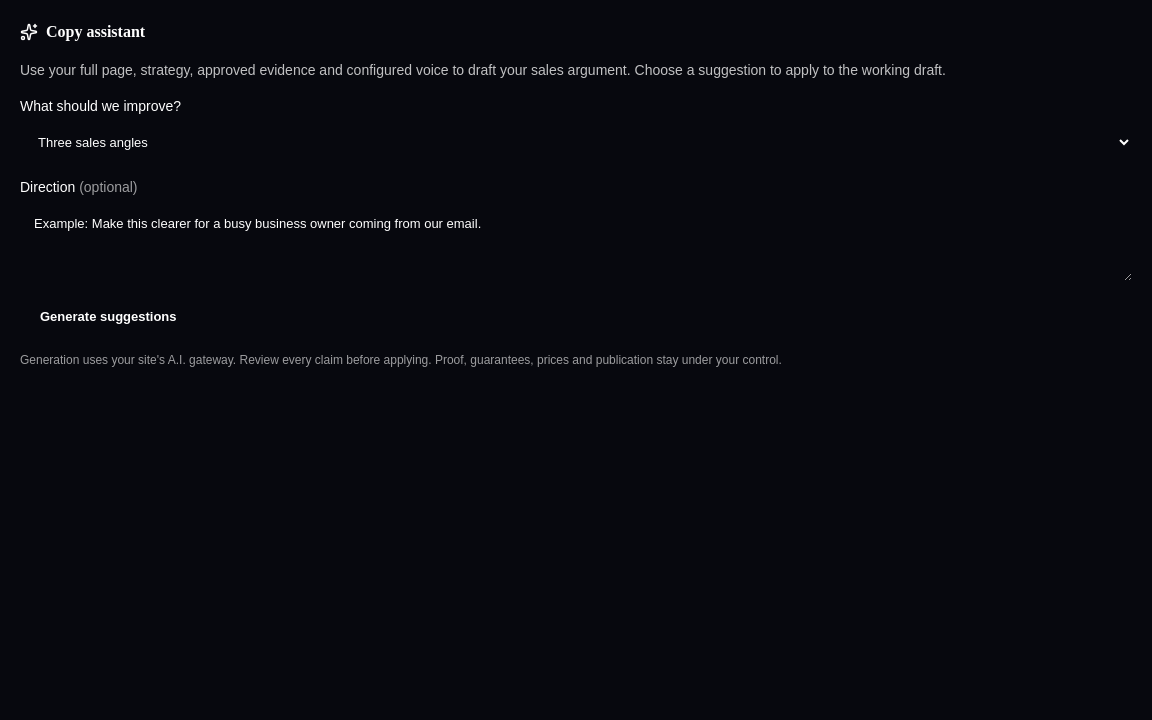
Test: copy assistant user control › makes no generation call on mount and requires an explicit apply after generation
This screenshot has width=1152, height=720.
Click the button "Generate suggestions" at (108, 316), box [20,297,196,336]
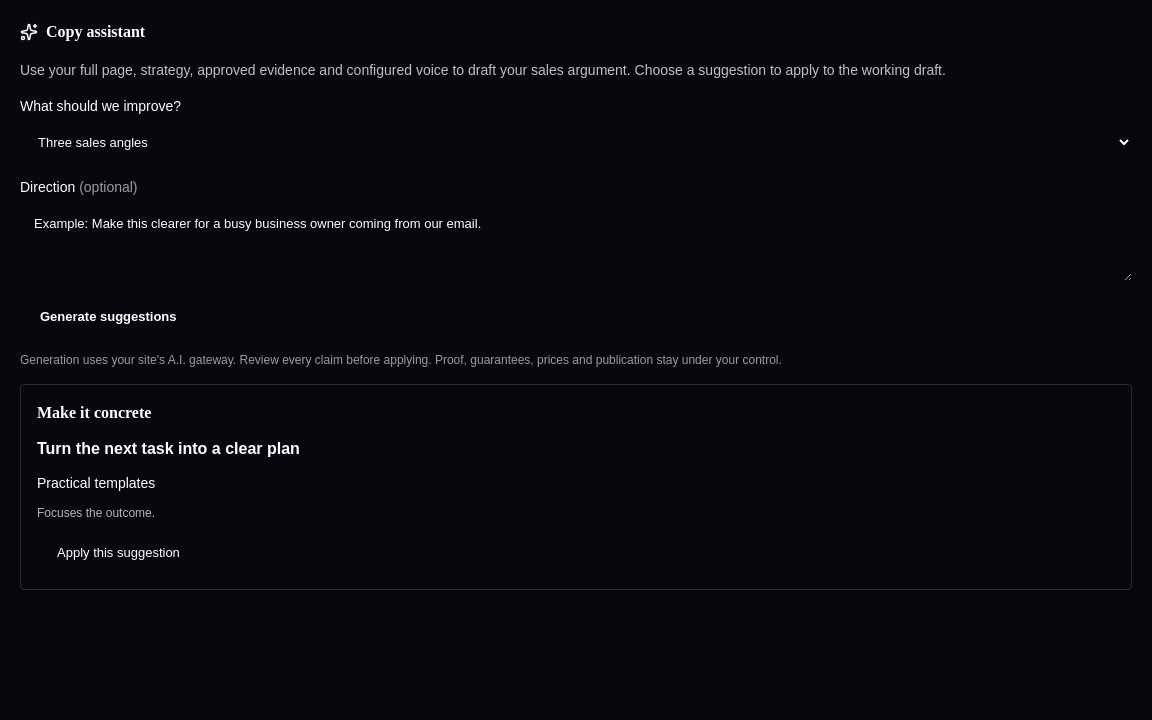
Now the text "Turn the next task into a clear plan" is shown, box [37,440,300,457]
Click the button "Apply this suggestion" at (118, 553), box [37,533,200,573]
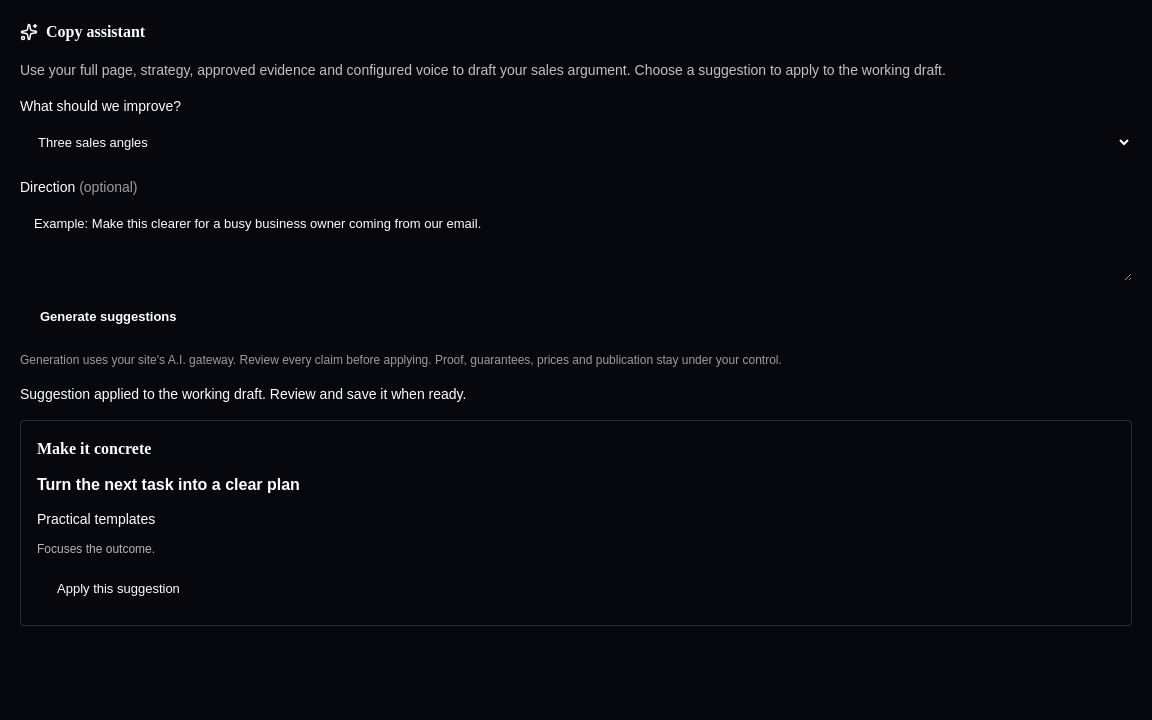
Now the button "Apply this suggestion" is disabled, box [37,569,200,609]
